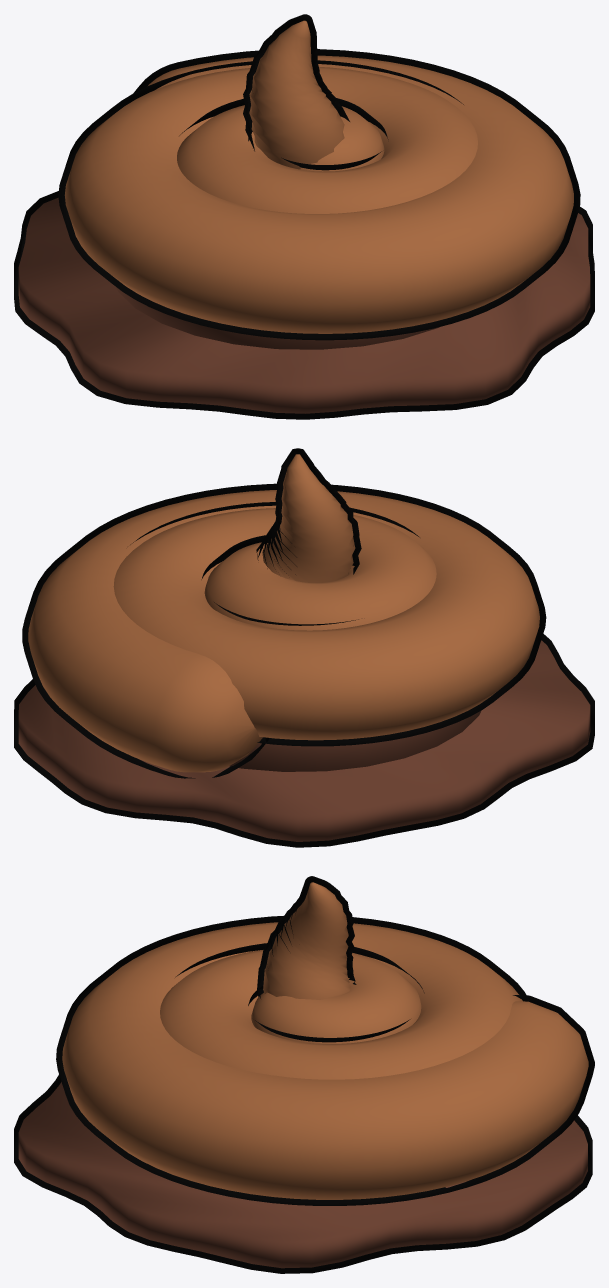
Rendered from CowPoo.glb.
3 views of the same model, one above another, from view 1: azimuth 30°, elevation 25°; view 2: azimuth 150°, elevation 25°; view 3: azimuth 270°, elevation 25° (orthographic). The views are drawn at different scales.
Parts seen in each view (by area): view 1: Coil, Splat, Outline, Core; view 2: Coil, Splat, Outline, Core; view 3: Coil, Splat, Outline.
Boxes of the visible parts, x1=… form: Coil: x1=64, y1=20, x2=573, y2=333; Splat: x1=18, y1=197, x2=590, y2=413; Outline: x1=14, y1=14, x2=594, y2=419; Core: x1=116, y1=287, x2=439, y2=349; Coil: x1=28, y1=454, x2=539, y2=772; Splat: x1=18, y1=640, x2=590, y2=841; Outline: x1=14, y1=448, x2=594, y2=847; Core: x1=229, y1=710, x2=481, y2=771; Coil: x1=62, y1=882, x2=588, y2=1199; Splat: x1=18, y1=1082, x2=587, y2=1268; Outline: x1=14, y1=876, x2=594, y2=1273.
Bounding box in the file's own units: 2.8 × 1.46 × 2.81.
